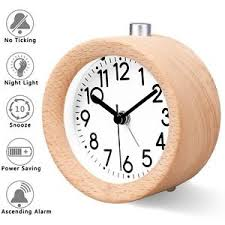alarm_clock: (41, 22, 220, 202), (47, 22, 220, 202)
